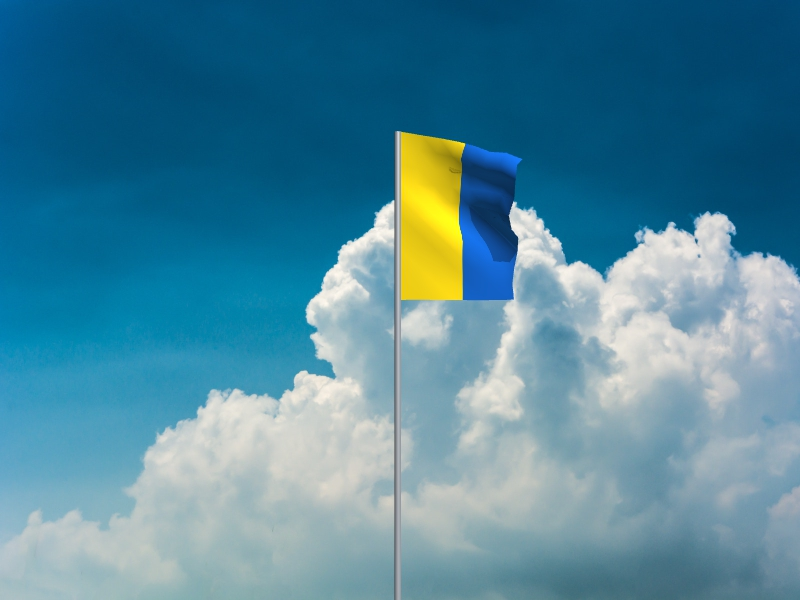ua: (401, 133, 523, 302)
